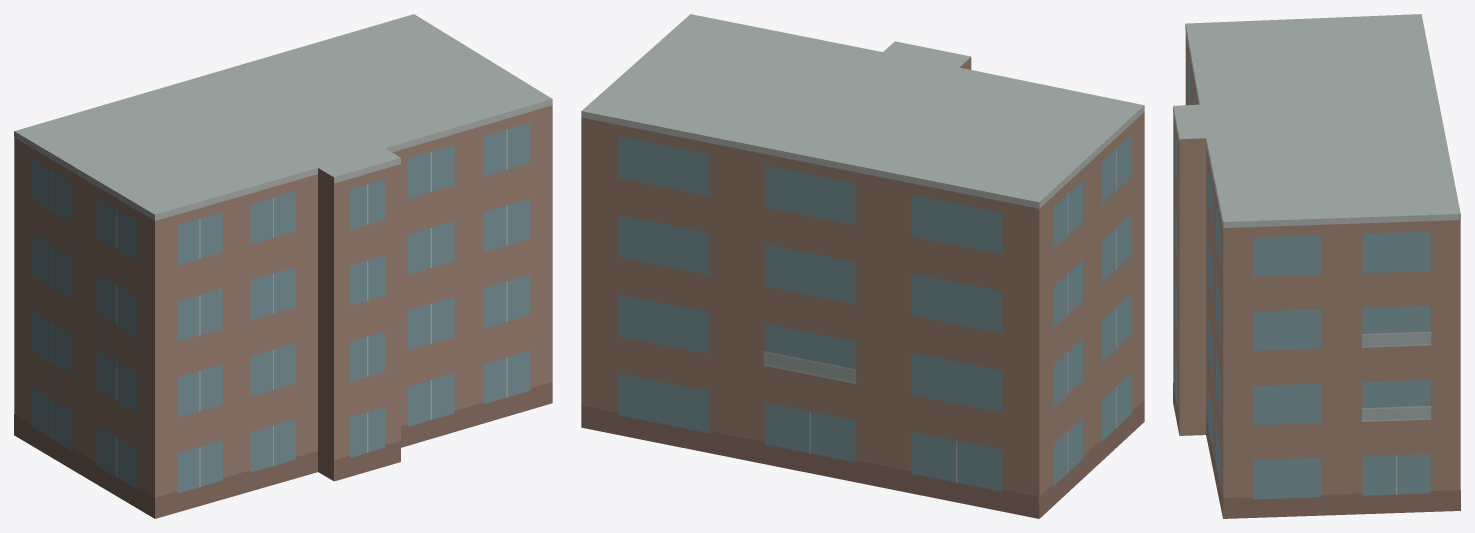
Rendered from survey-upis-32750115.glb.
3 renders of one model, left to right at view 1: azimuth 30°, elevation 25°; view 2: azimuth 150°, elevation 25°; view 3: azimuth 270°, elevation 25°, orthographic. The views are drawn at different scales.
Parts seen in each view (by area): view 1: survey-upis-32750115.tmp; view 2: survey-upis-32750115.tmp; view 3: survey-upis-32750115.tmp.
Part boxes in pixels (bbox=[...]): survey-upis-32750115.tmp: bbox=[14, 14, 552, 518]; survey-upis-32750115.tmp: bbox=[581, 14, 1144, 518]; survey-upis-32750115.tmp: bbox=[1173, 14, 1460, 518].
Size of the model in its own units: 18.05 by 12 by 10.55.
